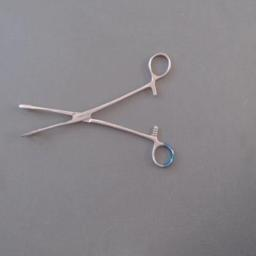Sponge Forceps: (16, 44, 176, 174)
